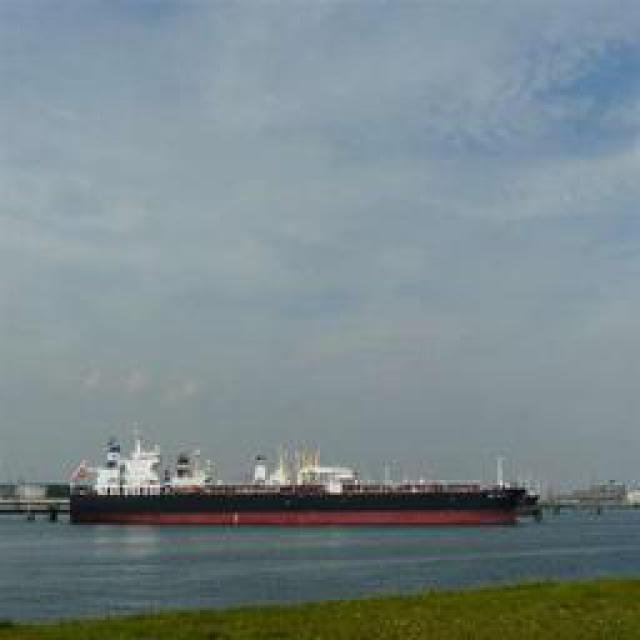Ship: (71, 437, 551, 527)
